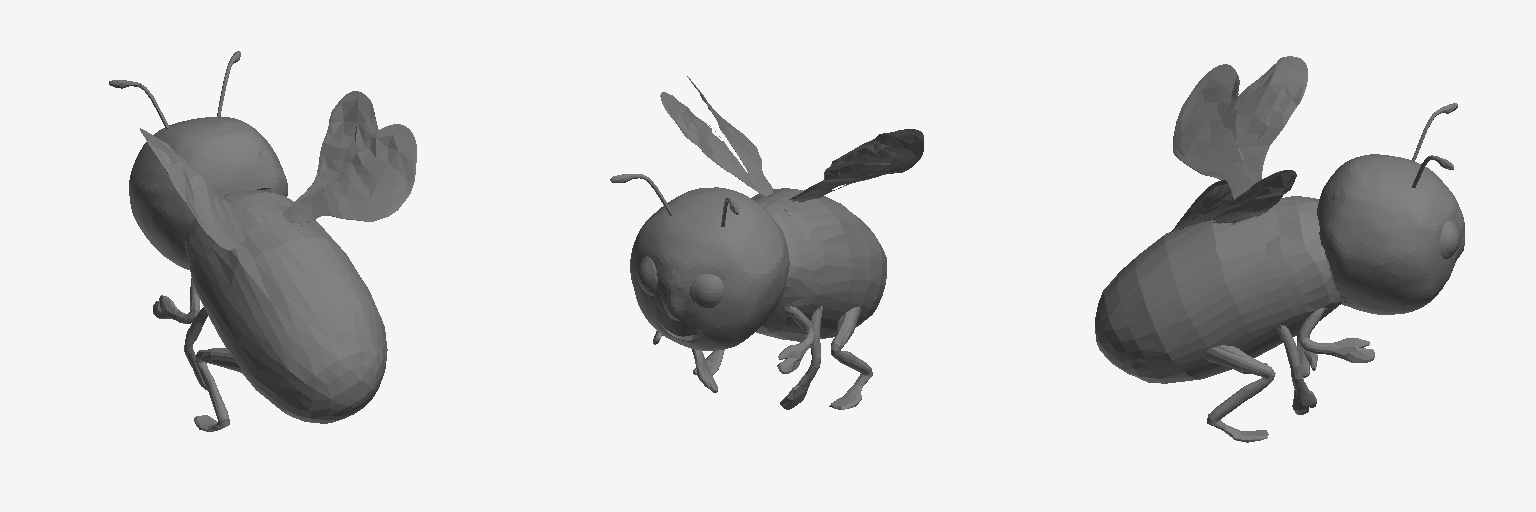
Rendered from Bee_000006.obj.
3 views of the same model, side by side, from view 1: azimuth 30°, elevation 25°; view 2: azimuth 150°, elevation 25°; view 3: azimuth 270°, elevation 25° (orthographic).
Size of the model in its own units: 0.2498 by 0.2945 by 0.3376.